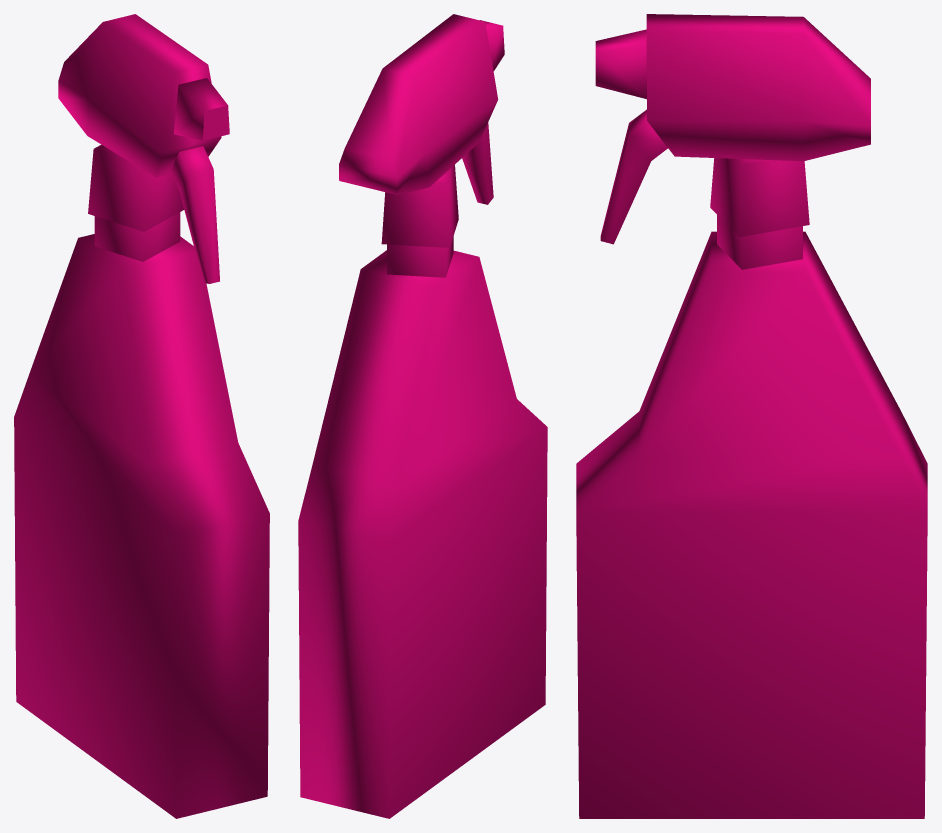
File: Household_05_Lod2.fbx
The picture shows the model from 3 angles, left to right: view 1: azimuth 30°, elevation 25°; view 2: azimuth 150°, elevation 25°; view 3: azimuth 270°, elevation 25°; orthographic projection. The views are drawn at different scales.
Visible parts, largest first — view 1: Household_05_Lod2; view 2: Household_05_Lod2; view 3: Household_05_Lod2.
Boxes of the visible parts, x1,y1,x2,y2 form: Household_05_Lod2: (14,14,269,818); Household_05_Lod2: (298,14,547,818); Household_05_Lod2: (576,14,927,818).
Bounding box in the file's own units: 4.3 × 31.61 × 13.03.
